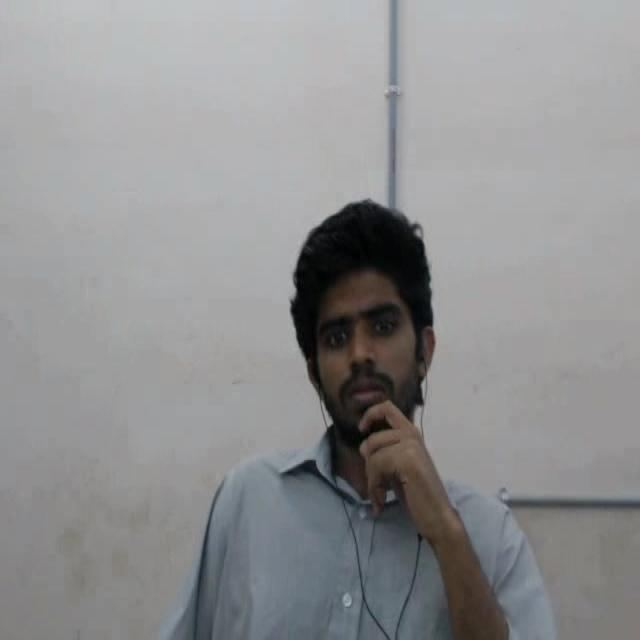Bored: (266, 196, 478, 522)
